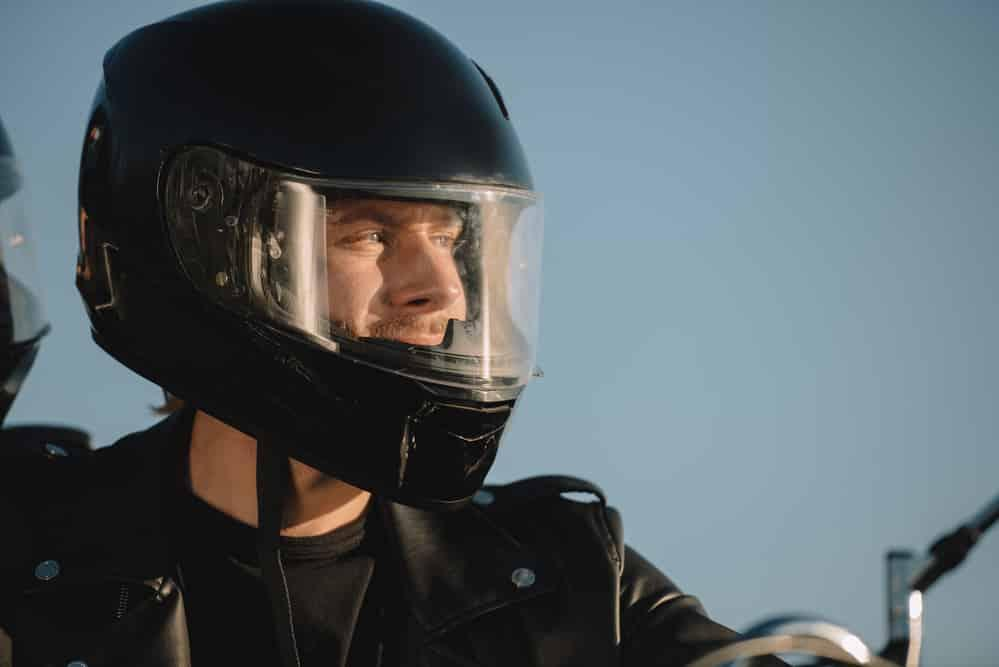helmet: (29, 0, 623, 516)
